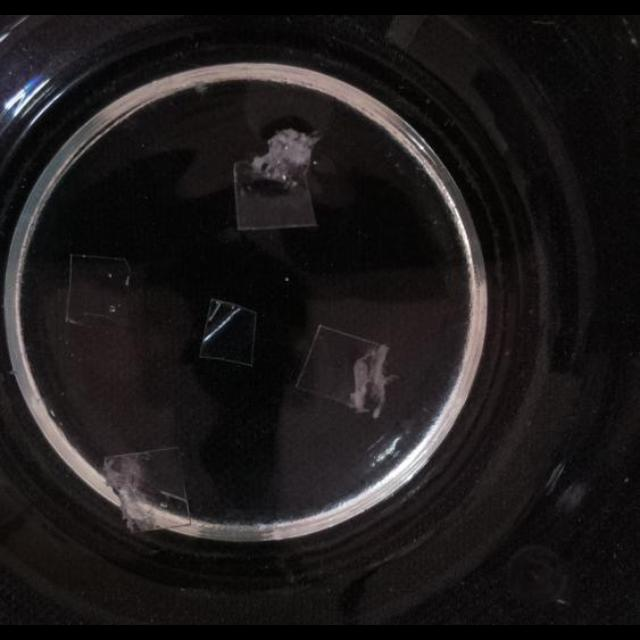Film: (294, 314, 396, 422), (104, 446, 192, 530), (230, 157, 318, 233), (64, 254, 134, 328), (198, 298, 258, 367)
